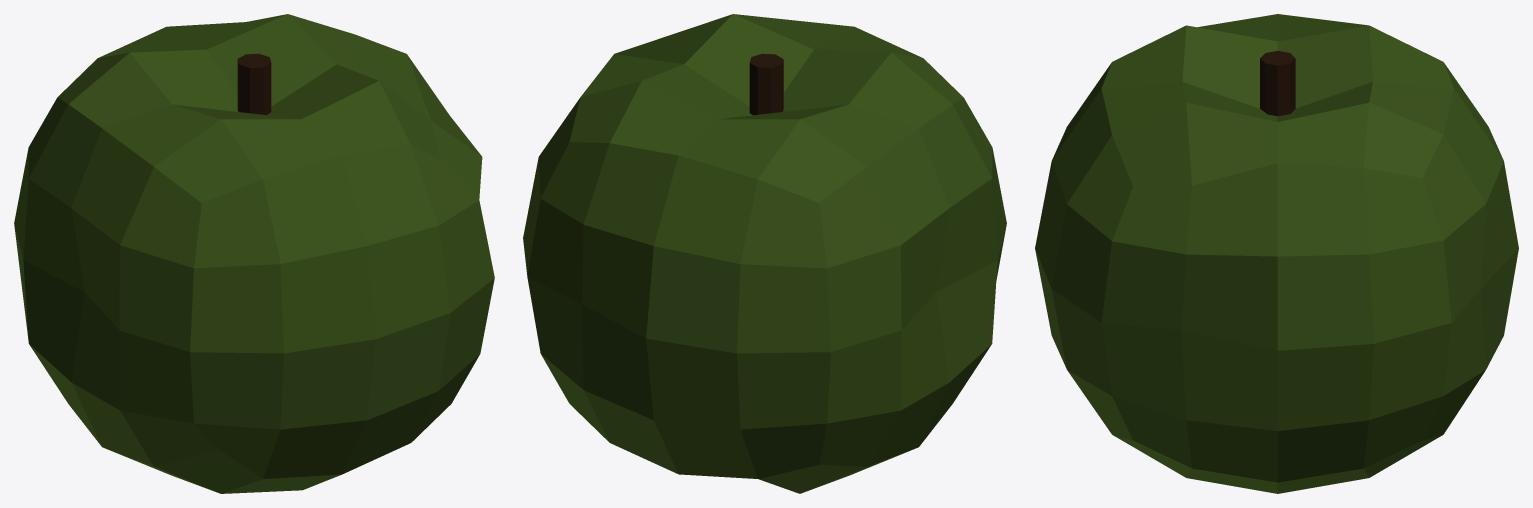
File: Batwan Fruit.fbx
The picture shows the model from 3 angles, left to right: view 1: azimuth 30°, elevation 25°; view 2: azimuth 150°, elevation 25°; view 3: azimuth 270°, elevation 25°; orthographic projection.
Parts seen in each view (by area): view 1: Batwan Fruit; view 2: Batwan Fruit; view 3: Batwan Fruit.
Part boxes in pixels (<box>): Batwan Fruit: <box>14,14,494,493</box>; Batwan Fruit: <box>523,14,1006,493</box>; Batwan Fruit: <box>1035,14,1518,493</box>.
Bounding box in the file's own units: 35.91 × 35.75 × 38.23.
